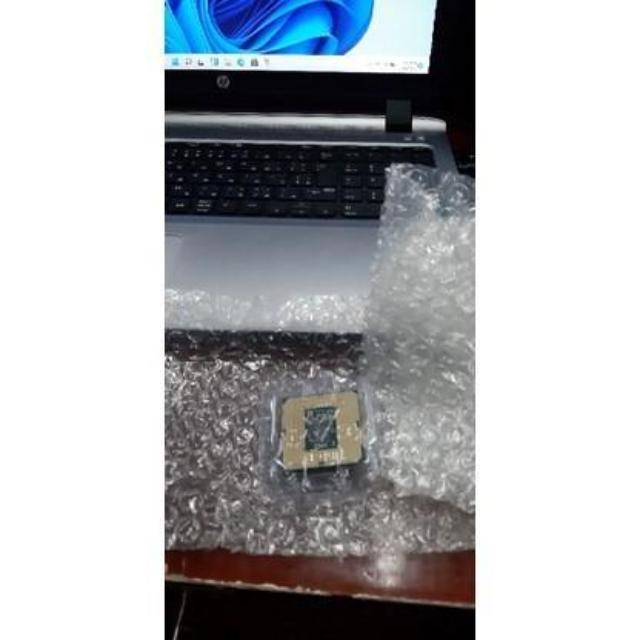CPU: (280, 391, 368, 469)
